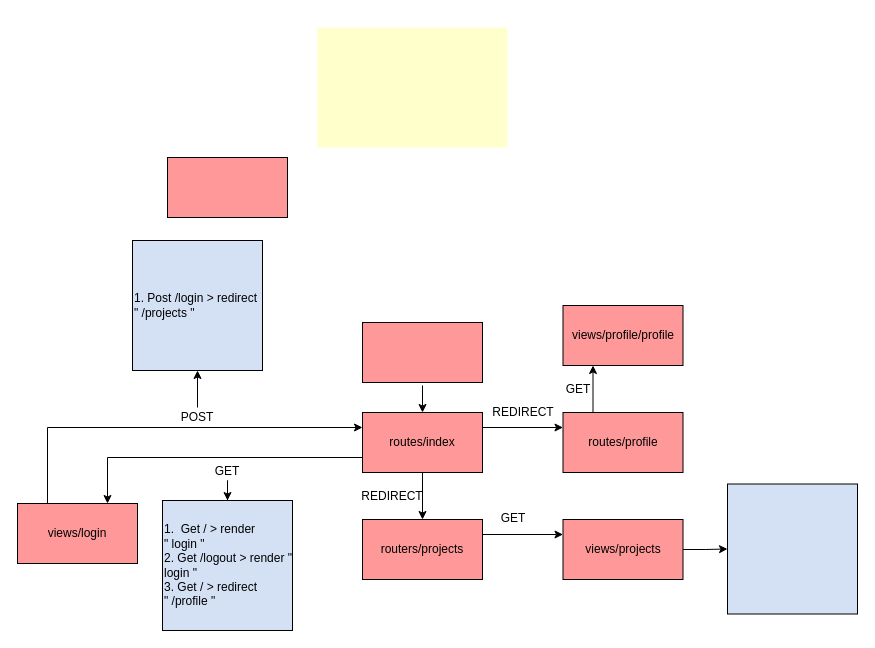
This 875x648 diagram has some shape labels left out. The shapes that lost their labels are listed below. From the top down, each one's box as (x1, y1, x2, y2) in pixels, then its label:
(317, 27, 507, 147): DOKUMENTASI PMS
(166, 156, 288, 218): CH 24
(362, 322, 482, 382): app,js
(726, 483, 858, 614): 1. list.ejs 2. add.ejs
